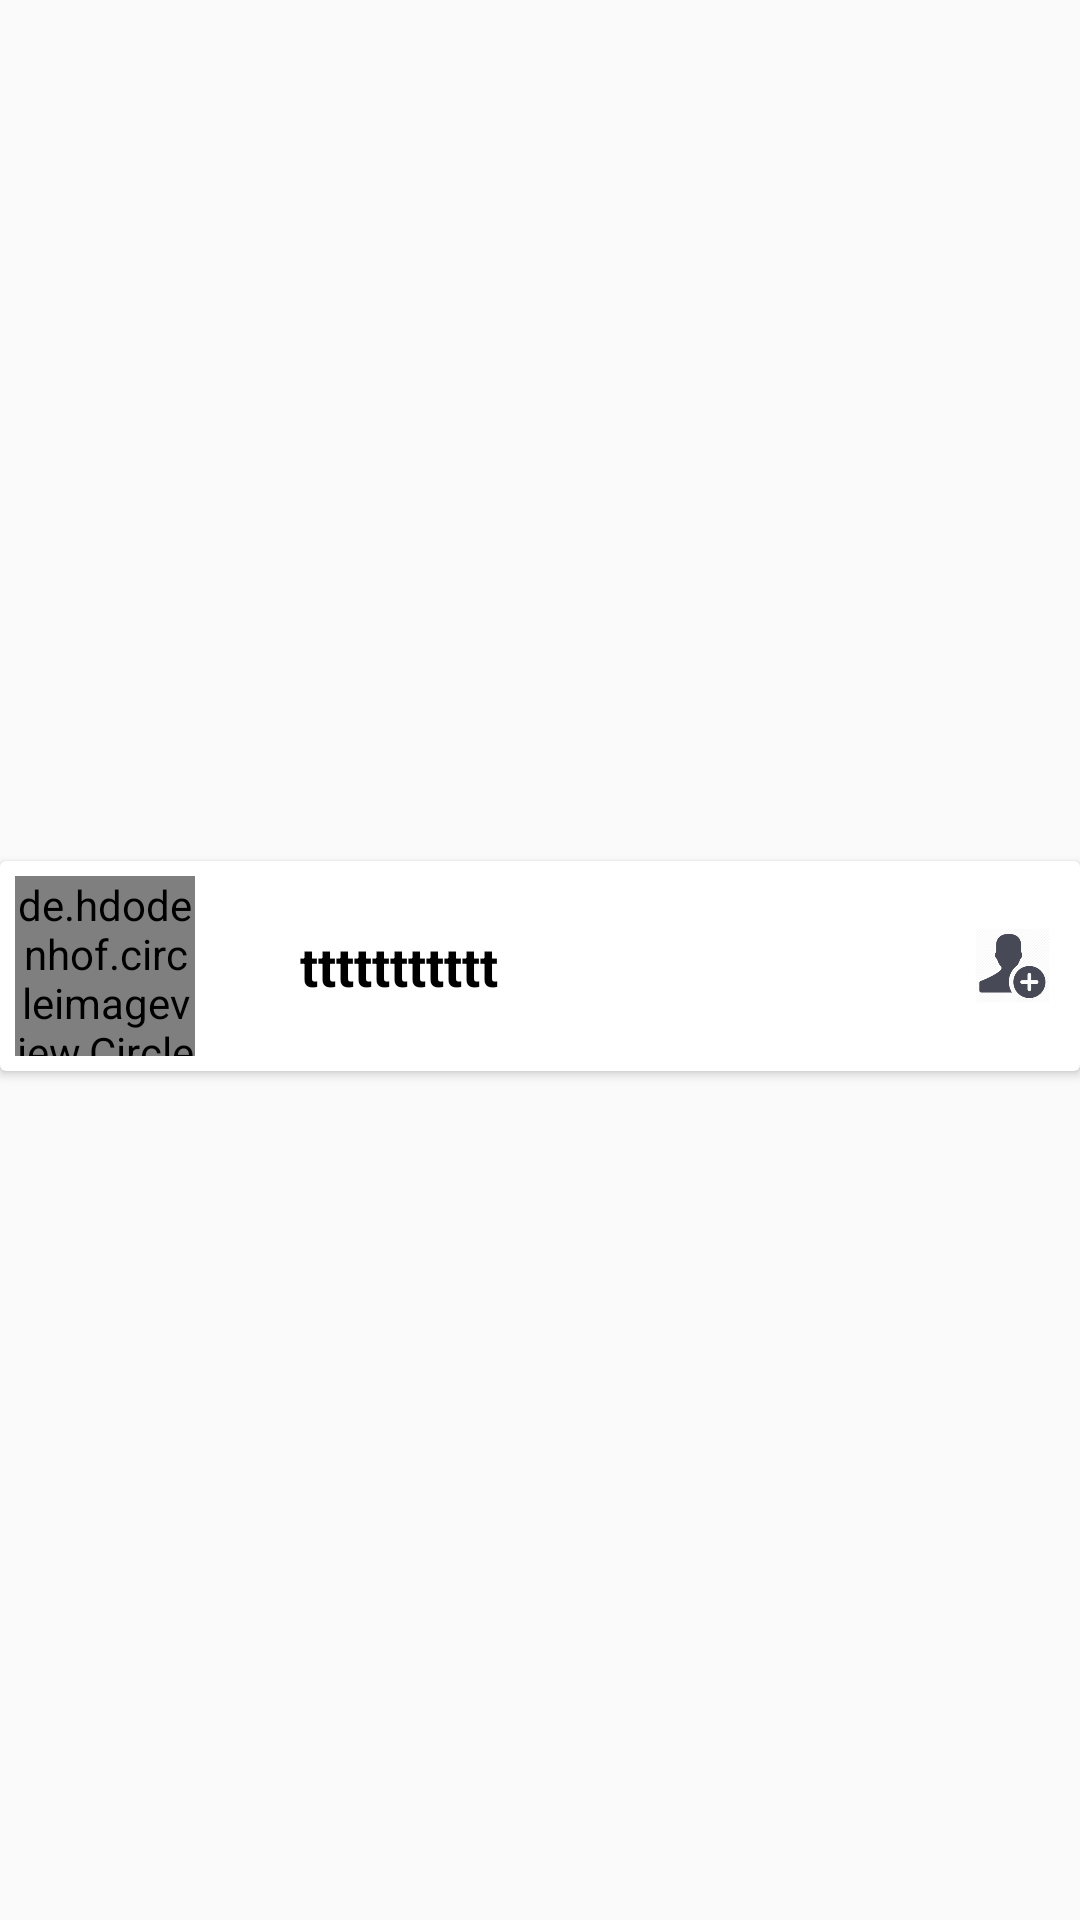

Point at icon controls on the screen. Image size 1080*1920, points as (x,y).
invite: (1012,966)
